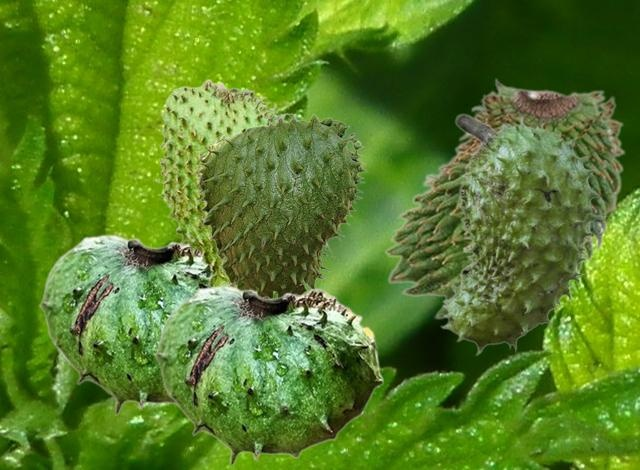guyabano: (383, 77, 625, 319), (154, 285, 383, 466), (439, 113, 606, 355), (197, 112, 367, 297), (39, 234, 210, 415), (156, 78, 288, 296)
